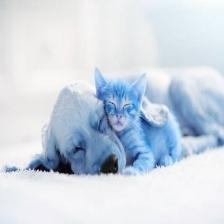kedo: (95, 69, 181, 169)
